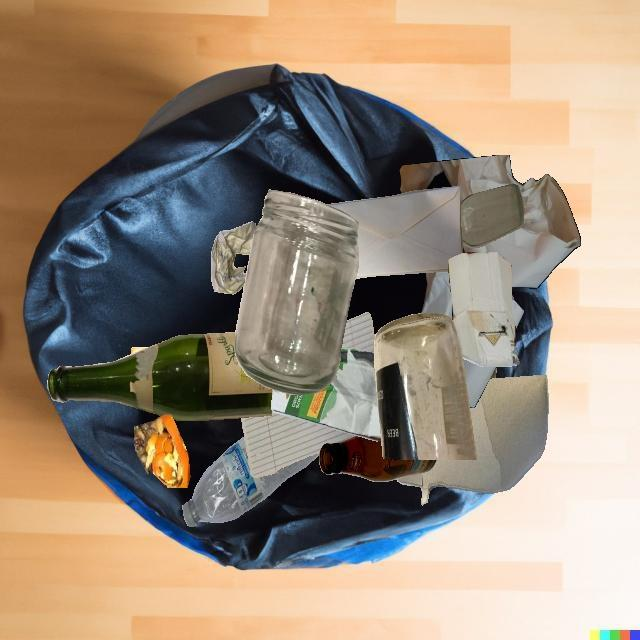biowaste: (134, 414, 190, 488), (131, 348, 148, 354)
cardboard: (397, 375, 548, 506), (271, 348, 381, 441), (448, 252, 520, 367), (490, 367, 497, 379)
glass: (235, 190, 359, 395), (47, 332, 272, 421), (374, 313, 477, 460), (319, 435, 437, 482), (461, 183, 524, 248)
paper: (399, 155, 581, 288), (437, 252, 523, 402), (326, 186, 463, 279), (241, 413, 355, 477), (211, 221, 256, 294)
plastic: (182, 436, 319, 527)
